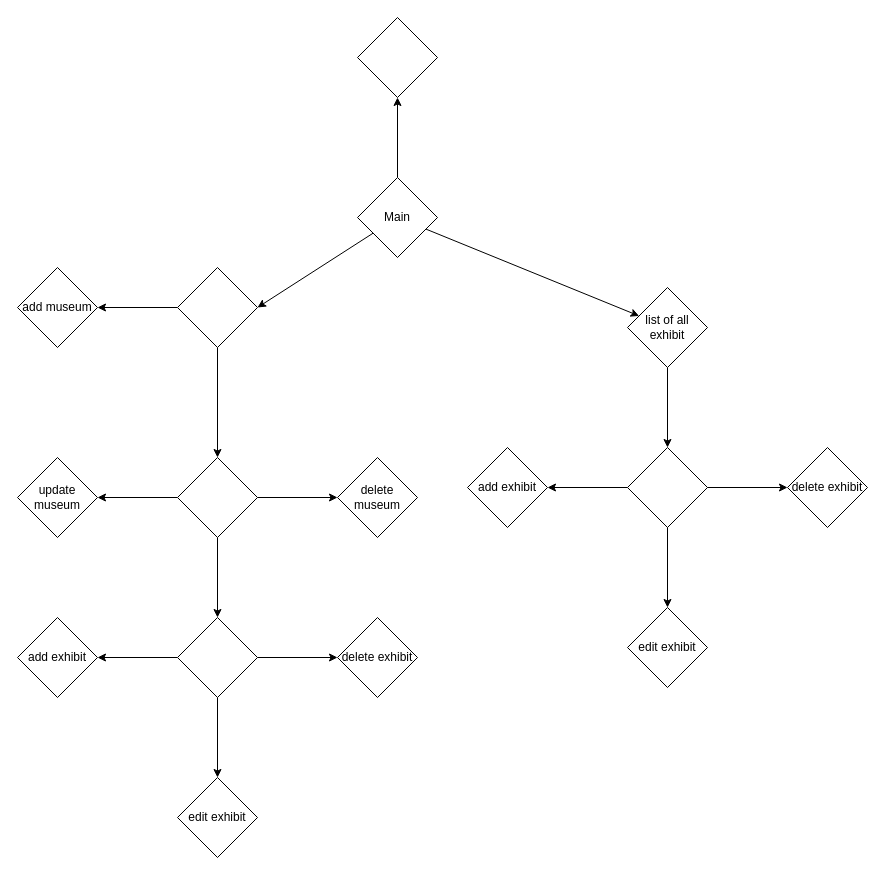
The diagram is 885 pixels wide and 875 high, and some of its shapes have lost their labels. Each missing label, with the centre of its shape:
"choose exhibit by id" belongs at point (667, 487).
"choose museum by id" belongs at point (217, 497).
"exit" belongs at point (397, 57).
"List of Museums" belongs at point (217, 307).
"see list of available exhibits" belongs at point (217, 657).
